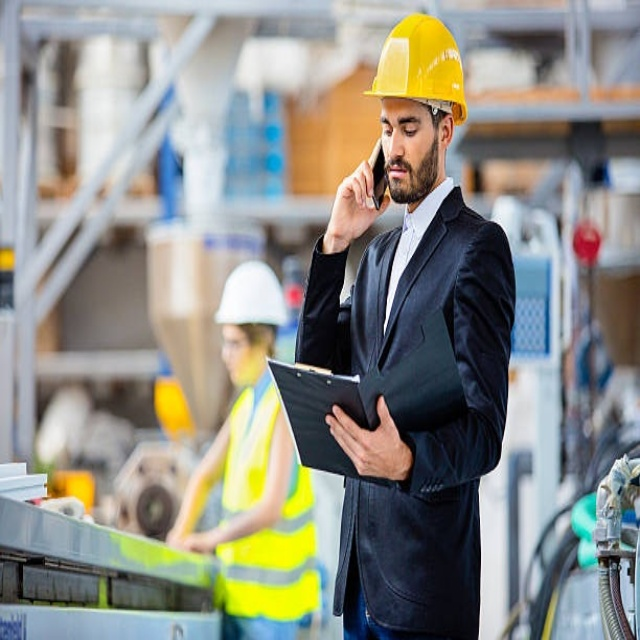Sin_gafas: (379, 108, 424, 144)
Sin_guantes: (326, 393, 407, 482), (326, 141, 381, 237)
Sin_mascara: (384, 158, 412, 190)
